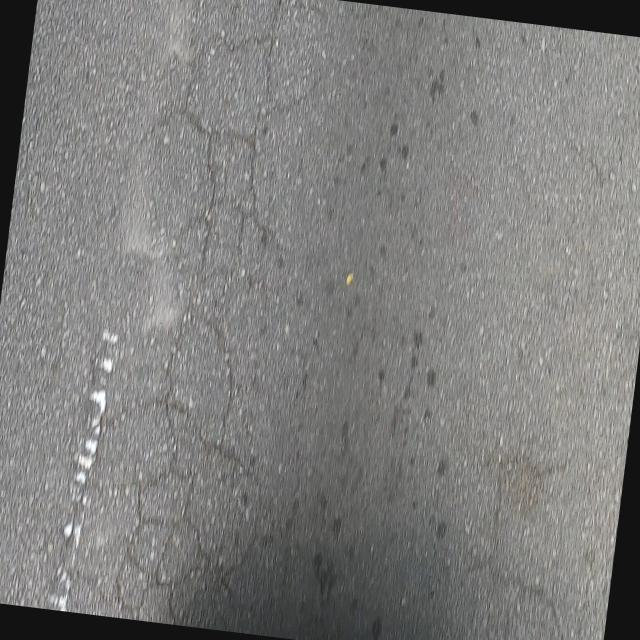Retak-Buaya: (72, 0, 279, 633)
